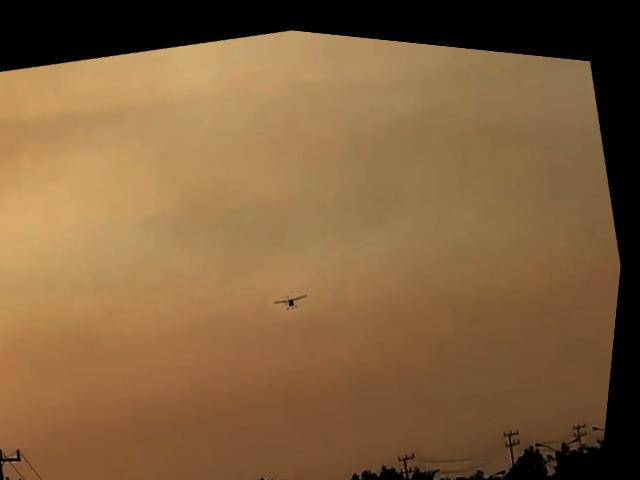plane: (278, 283, 316, 308)
